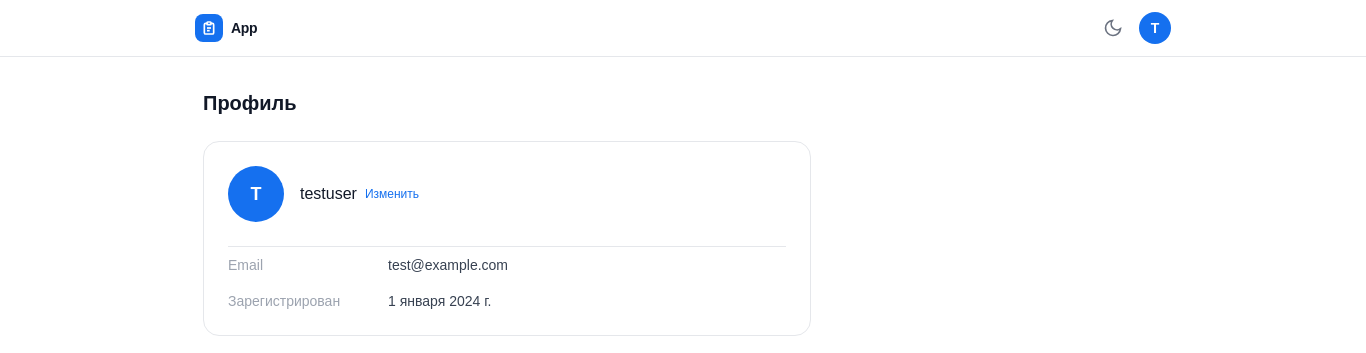
Test: ProfilePage › «Отмена» скрывает поле ввода
The image size is (1366, 353).
Expected: the text "testuser" is shown, [300,182,357,206]
Click the button "Изменить" at (392, 194), box [365,186,419,202]
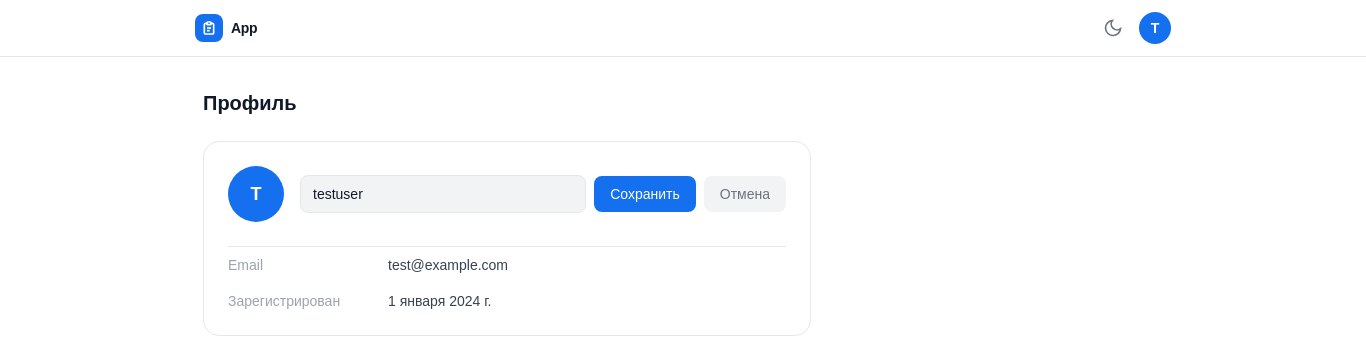
Click the button "Отмена" at (745, 194), box [704,176,786,212]
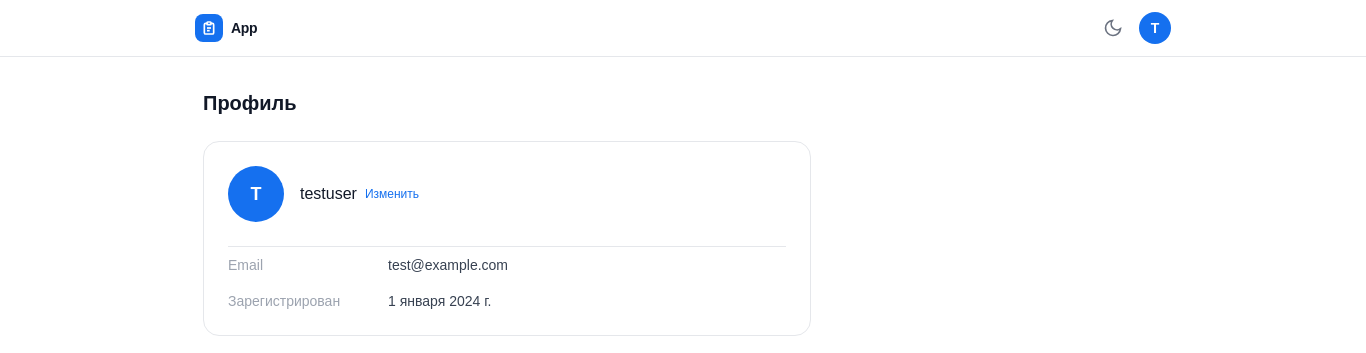
Result: the text "testuser" is shown at [300,182,357,206]
